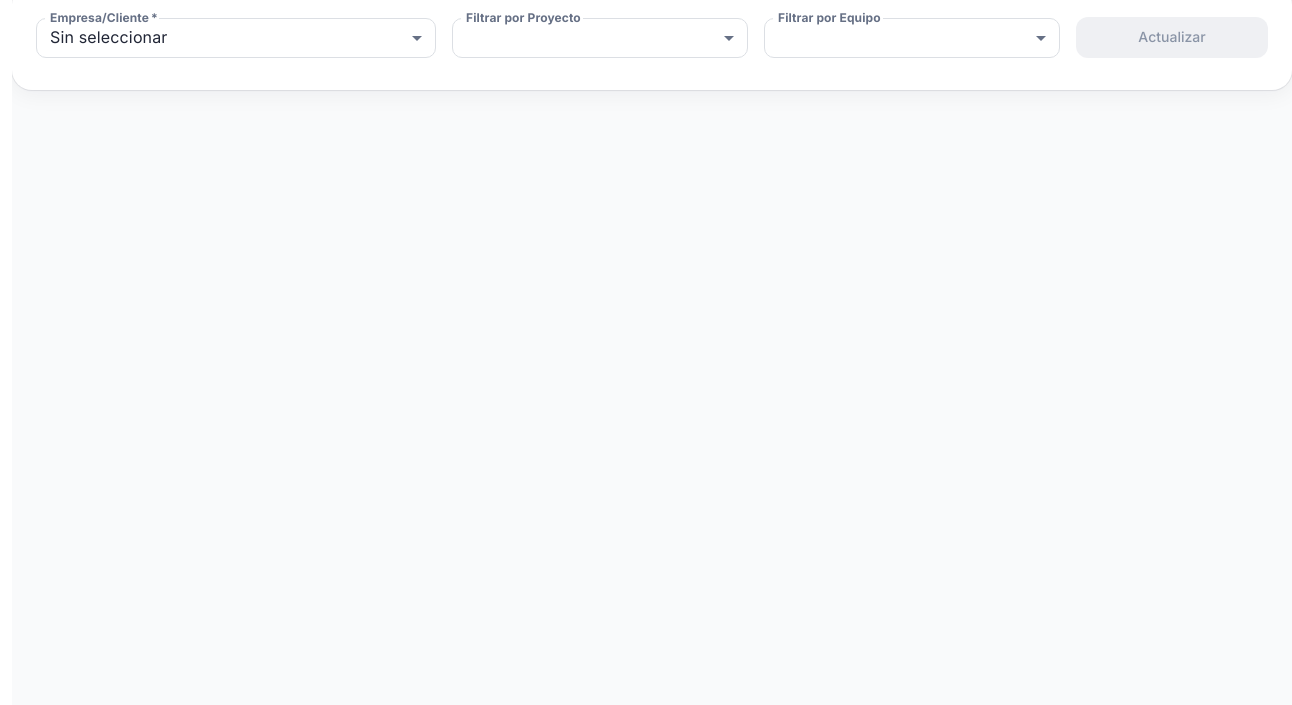
Test: TablaVisualizarEstadoDeCuenta › al elegir cliente consulta paginado y muestra resumen y filas
Click the dropdown labelled "Sin seleccionar": (109, 37) x1=50 y1=27 x2=168 y2=47
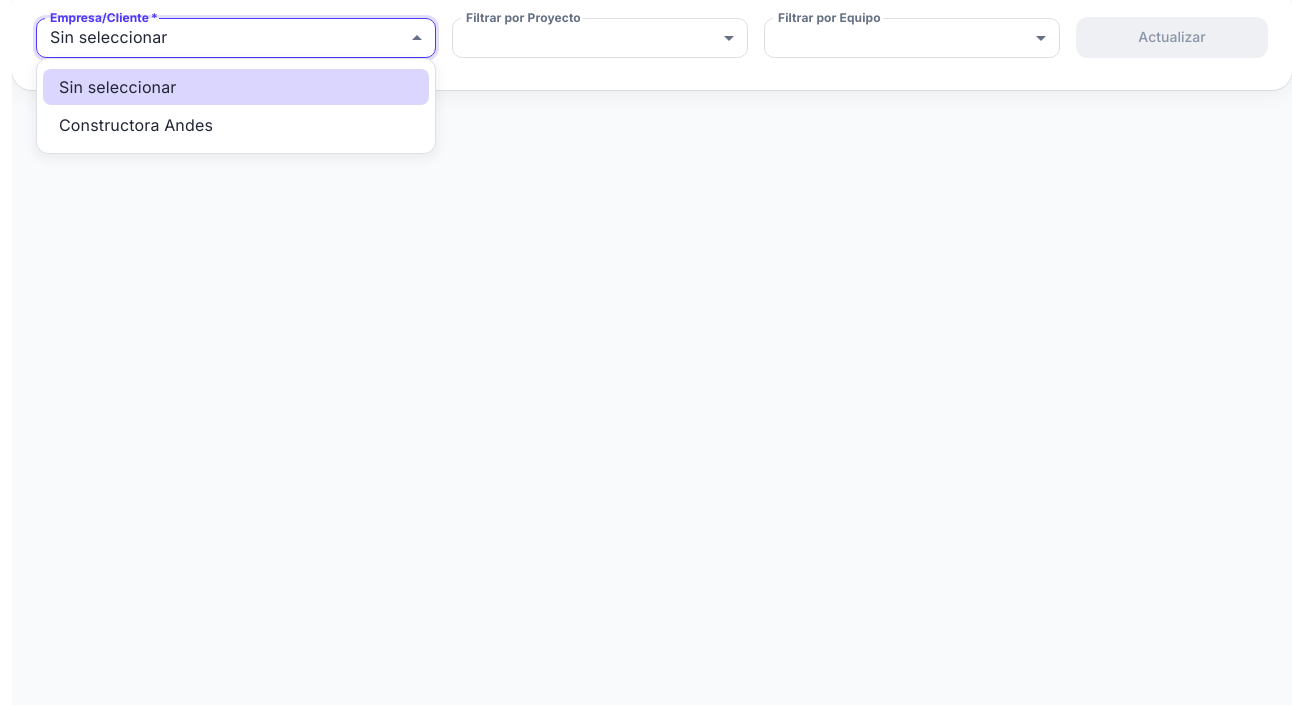
Click the option "Constructora Andes": (136, 125) x1=59 y1=115 x2=213 y2=135
(page scrolled)
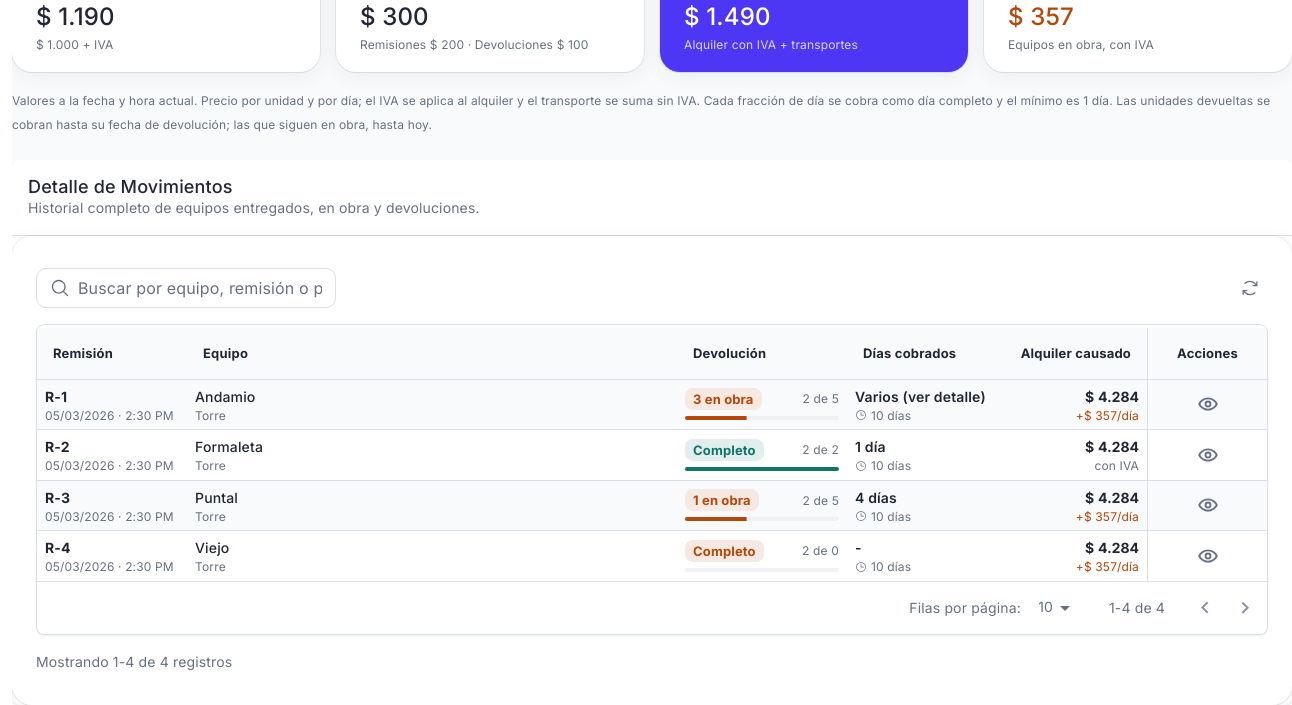
Expected: the list is gone
Expected: the text "Formaleta" is shown, x1=195 y1=438 x2=263 y2=455
Expected: the text "Alquiler con IVA + transportes" is shown, x1=684 y1=37 x2=858 y2=52
